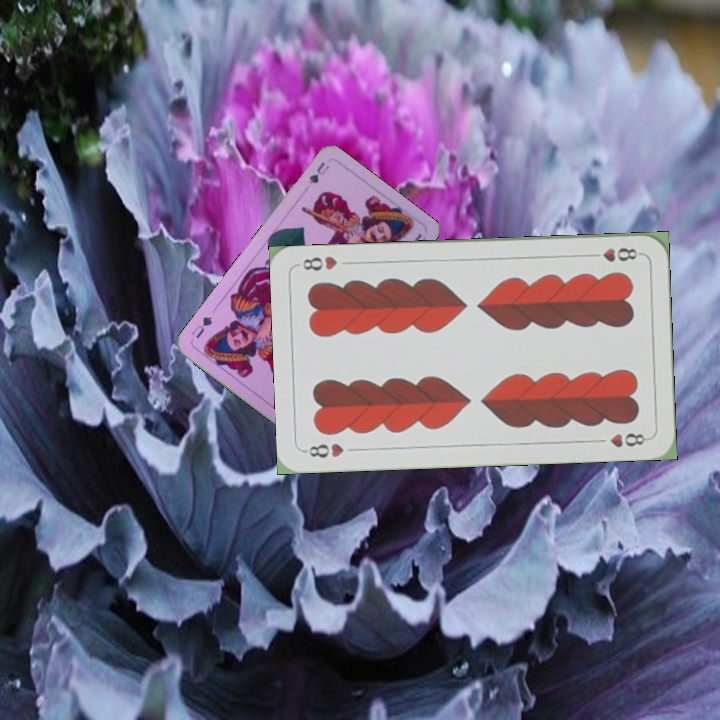GU: (305, 158, 332, 186)
H8: (584, 243, 643, 264), (301, 439, 346, 460)
